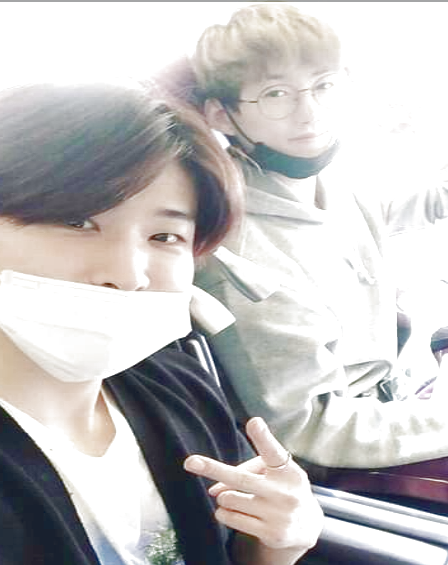mask_weared_incorrect: (194, 5, 357, 180)
